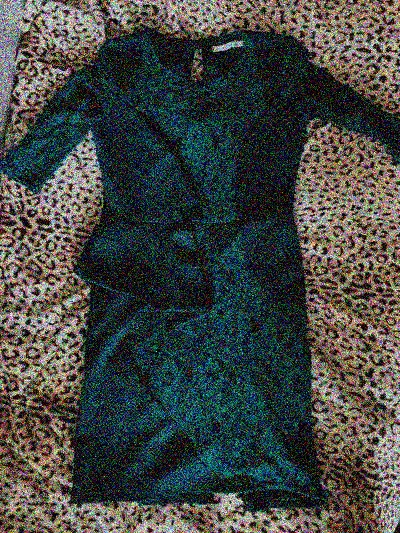Dress: (2, 8, 399, 517)
